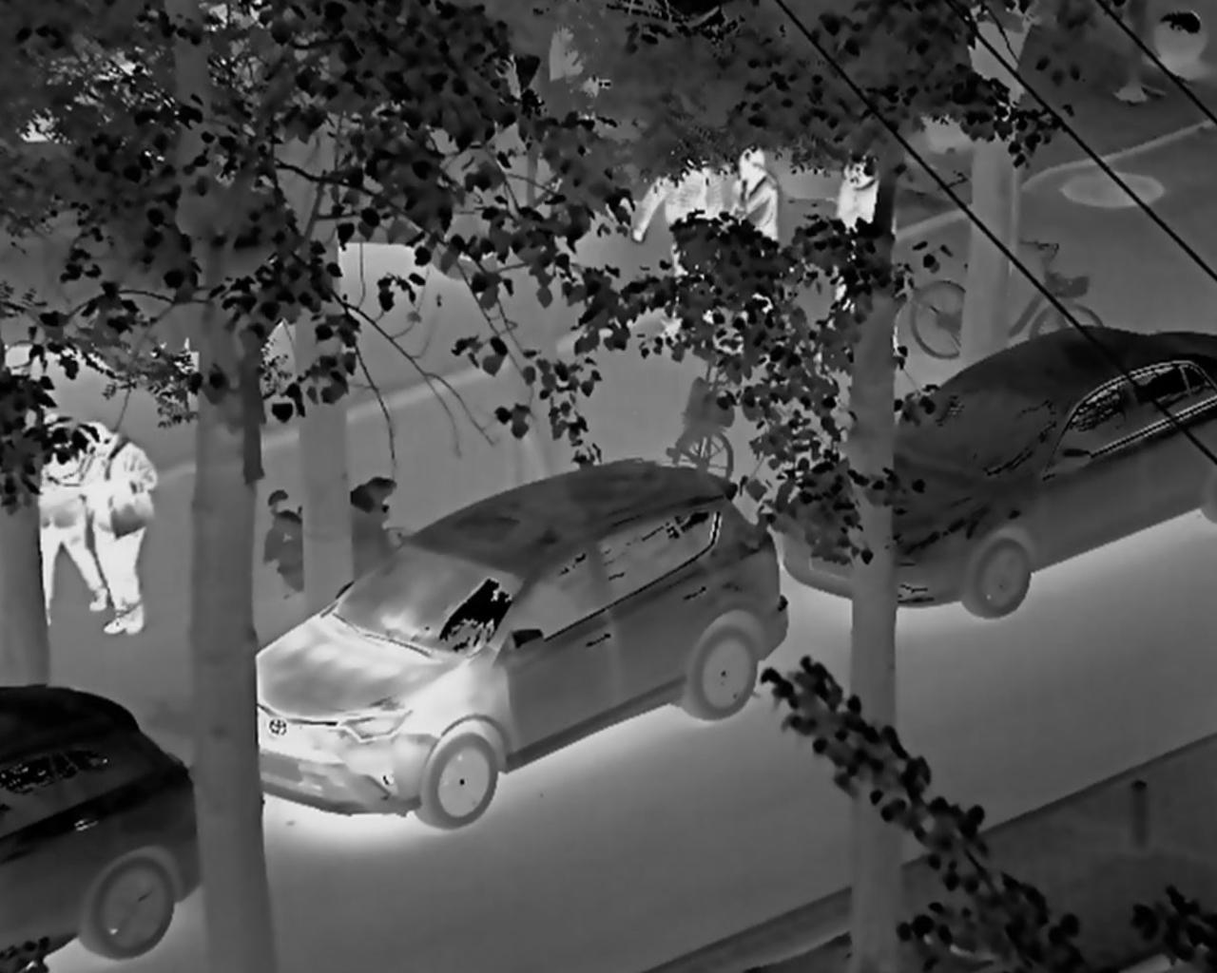person: (74, 413, 163, 646), (637, 130, 724, 355), (828, 132, 901, 344)
